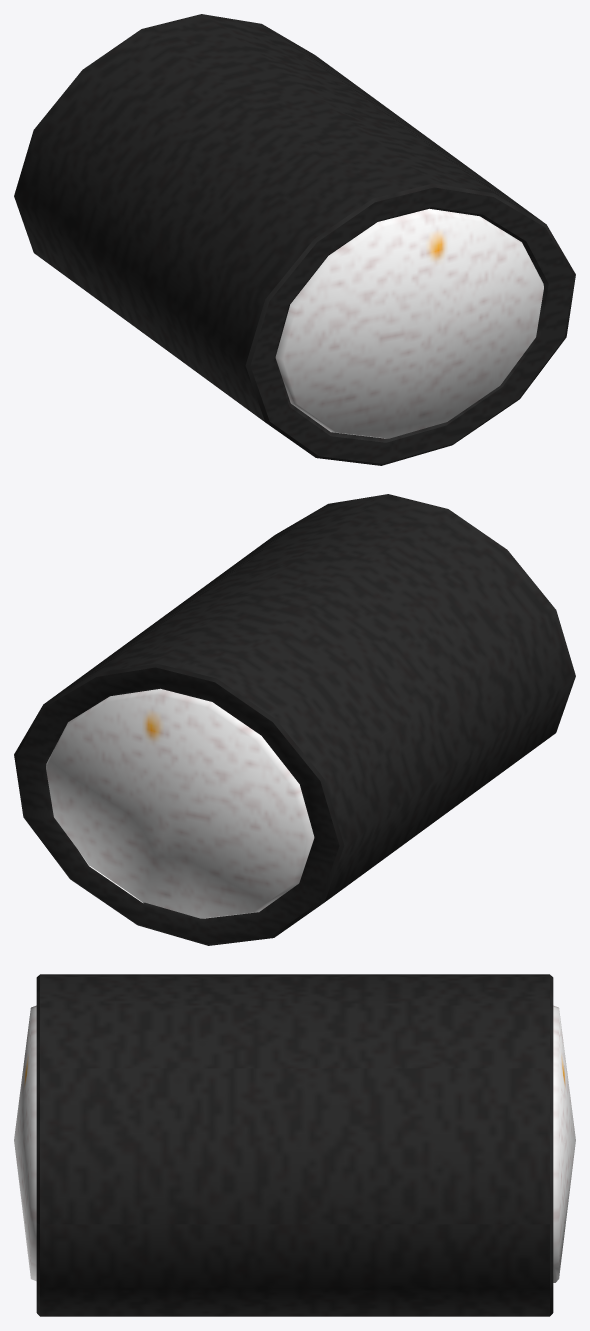
The model's file is LicoriceTube_UV_FBX.fbx.
3 views of the same model, one above another, from view 1: azimuth 30°, elevation 25°; view 2: azimuth 150°, elevation 25°; view 3: azimuth 270°, elevation 25° (orthographic). The views are drawn at different scales.
Parts seen in each view (by area): view 1: Cylinder; view 2: Cylinder; view 3: Cylinder.
Part boxes in pixels (box(x1,y1,x2,y2)): Cylinder: box(14, 14, 575, 465); Cylinder: box(14, 494, 575, 945); Cylinder: box(14, 974, 575, 1316).
Size of the model in its own units: 121 by 94.33 by 162.
